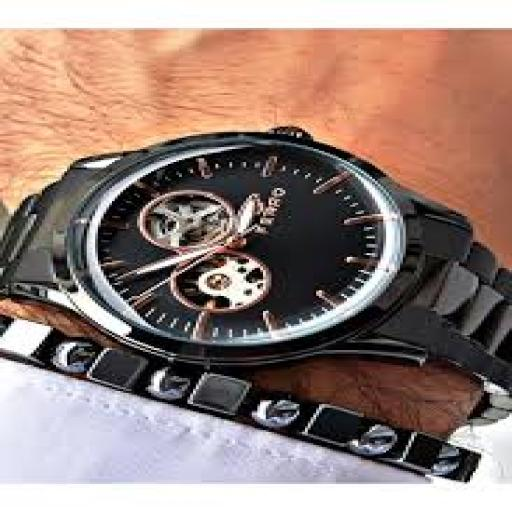KolSaati: (4, 50, 502, 414)
